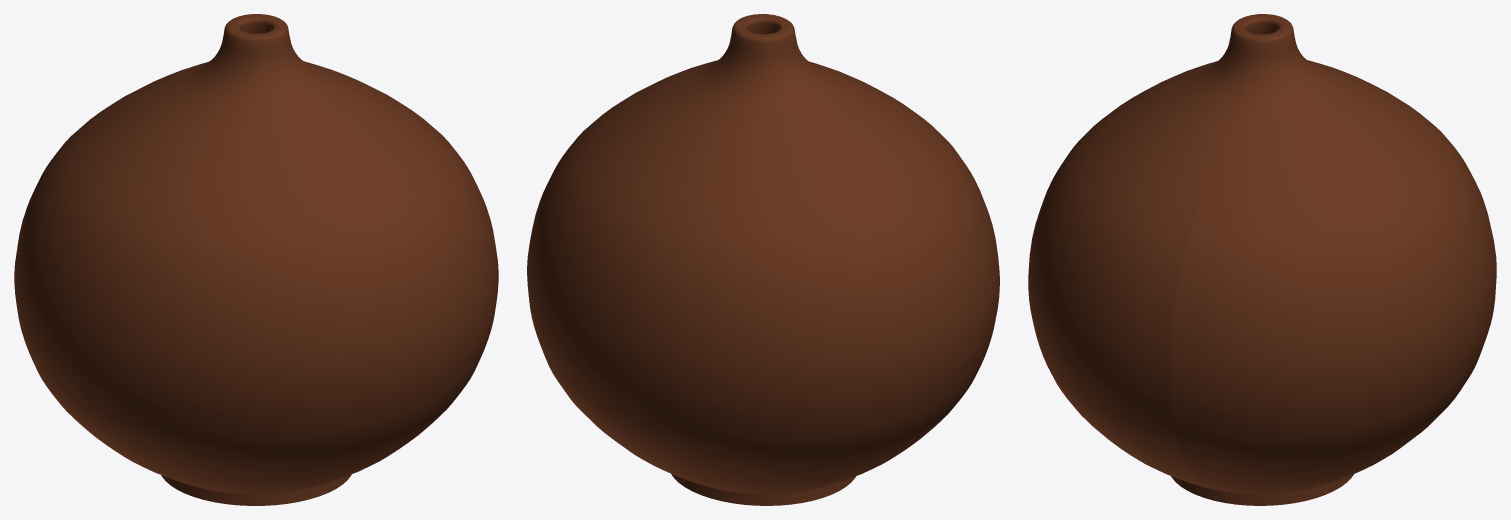
The model's file is VasoPiccolo.001.fbx.
3 renders of one model, left to right at view 1: azimuth 30°, elevation 25°; view 2: azimuth 150°, elevation 25°; view 3: azimuth 270°, elevation 25°, orthographic.
Parts seen in each view (by area): view 1: VasoPiccolo.001; view 2: VasoPiccolo.001; view 3: VasoPiccolo.001.
Boxes of the visible parts, left/top/right/bottom form: VasoPiccolo.001: left=14, top=14, right=498, bottom=505; VasoPiccolo.001: left=527, top=14, right=999, bottom=505; VasoPiccolo.001: left=1028, top=14, right=1496, bottom=505.
Bounding box in the file's own units: 13.09 × 13.2 × 12.76.
